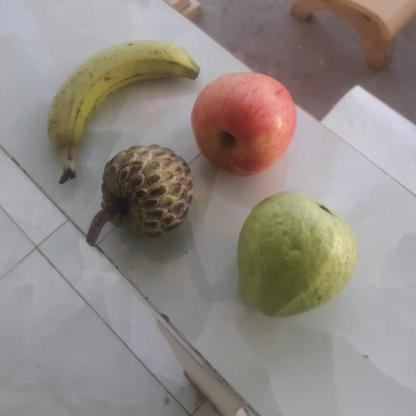annona: (92, 145, 198, 242)
apple: (188, 72, 301, 176)
banana: (43, 37, 209, 167)
guava: (237, 196, 362, 315)
